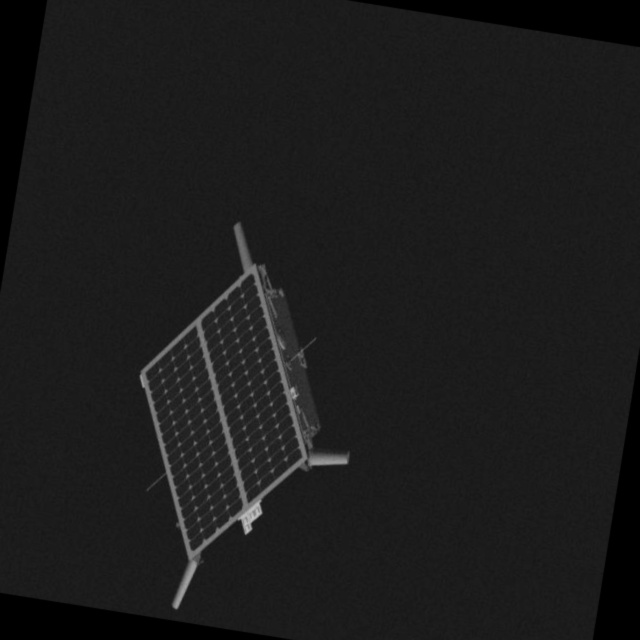medium_debris: (83, 191, 395, 638)
